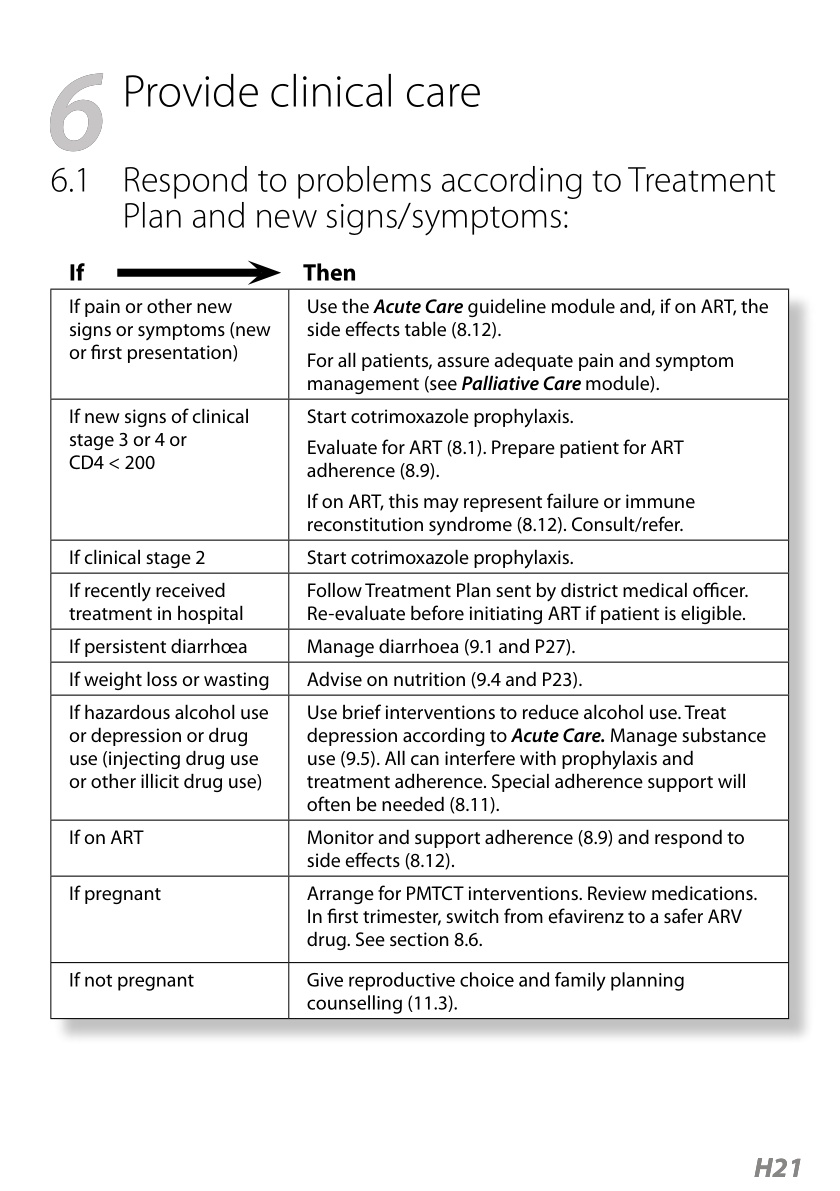full_lined: (48, 287, 790, 1020)
